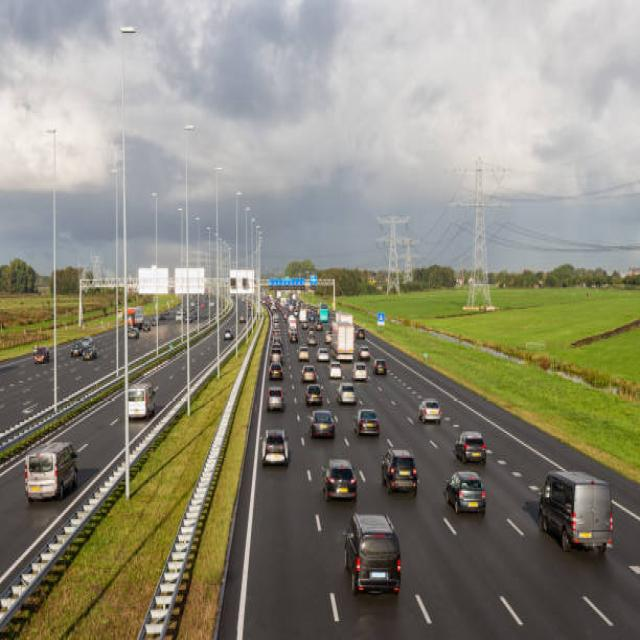Car: (342, 512, 402, 594), (444, 469, 486, 515), (381, 447, 418, 494), (322, 458, 357, 500), (260, 427, 291, 466), (454, 430, 486, 464), (418, 397, 442, 423)
MiniBus: (23, 441, 77, 502), (126, 381, 154, 419)
Truck: (537, 469, 613, 554)
